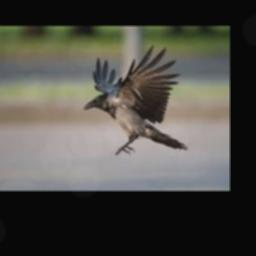Crow: (84, 44, 190, 155)
